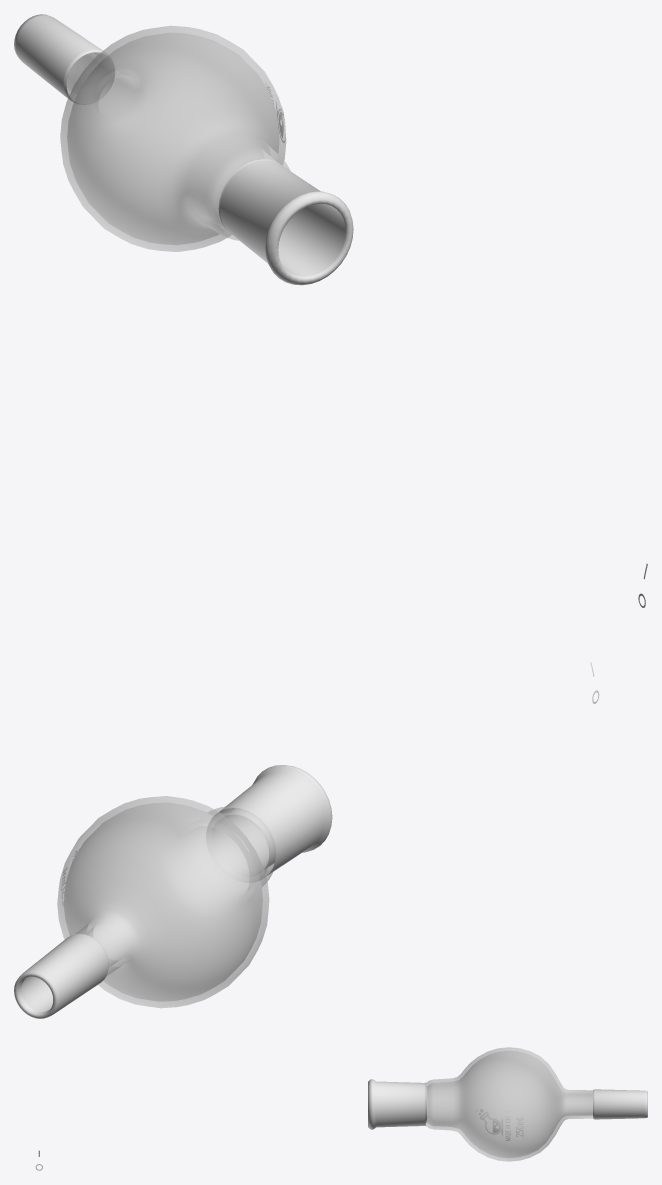
Rendered from 4-NoMachine_BumpTrap_WA.glb.
3 views of the same model, one above another, from view 1: azimuth 30°, elevation 25°; view 2: azimuth 150°, elevation 25°; view 3: azimuth 270°, elevation 25° (orthographic). The views are drawn at different scales.
Visible parts, largest first — view 1: bump trap 250ml.001; view 2: bump trap 250ml.001; view 3: bump trap 250ml.001.
Part boxes in pixels (x1=…): bump trap 250ml.001: x1=14, y1=14, x2=353, y2=285; bump trap 250ml.001: x1=14, y1=765, x2=332, y2=1018; bump trap 250ml.001: x1=368, y1=1047, x2=647, y2=1161.
Size of the model in its own units: 0.9385 by 1.06 by 5.19.
Materials: 4 (1 with a texture image).
